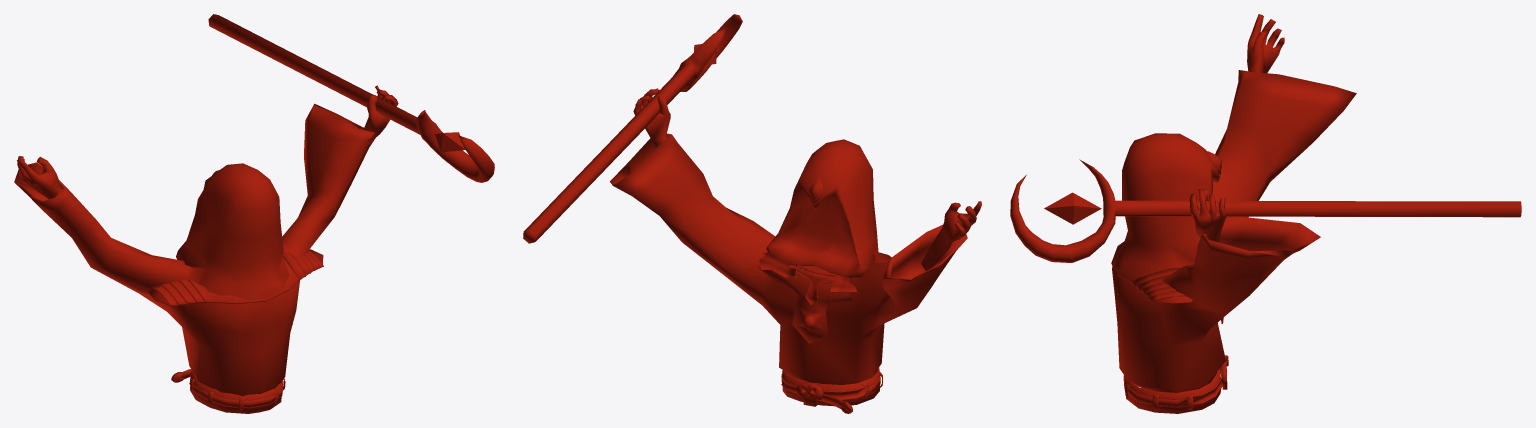
File: top_000030.obj
3 views of the same model, side by side, from view 1: azimuth 30°, elevation 25°; view 2: azimuth 150°, elevation 25°; view 3: azimuth 270°, elevation 25° (orthographic). The views are drawn at different scales.
Parts seen in each view (by area): view 1: LowPoly_Warlock.000_Plane.005; view 2: LowPoly_Warlock.000_Plane.005; view 3: LowPoly_Warlock.000_Plane.005.
Boxes of the visible parts, x1,y1,x2,y2 form: LowPoly_Warlock.000_Plane.005: (14, 14, 494, 413); LowPoly_Warlock.000_Plane.005: (523, 14, 981, 413); LowPoly_Warlock.000_Plane.005: (1010, 14, 1521, 413).
Bounding box in the file's own units: 1.8 × 1.28 × 1.89.
